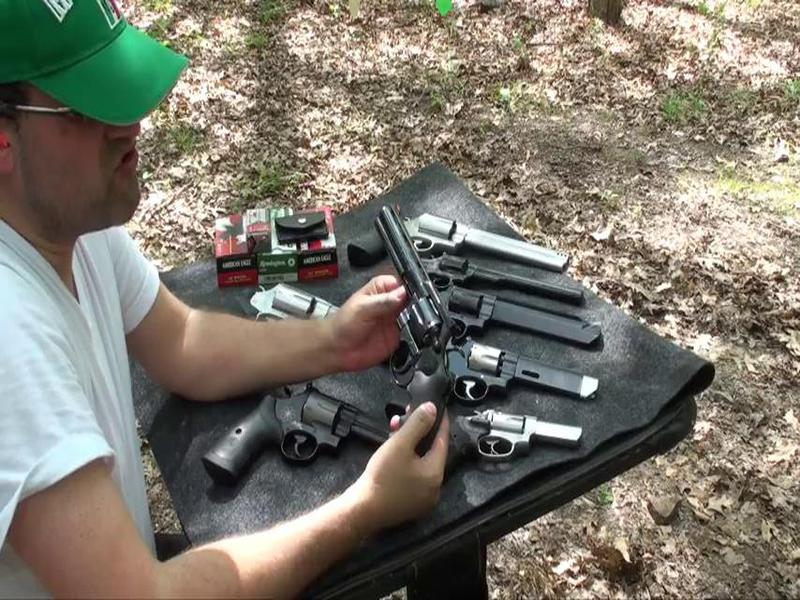Revolver: (348, 194, 471, 444)
